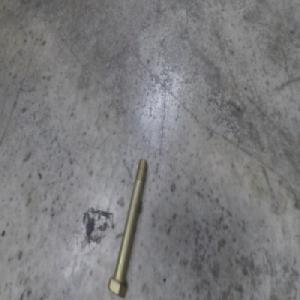Bolt: (108, 155, 147, 297)
